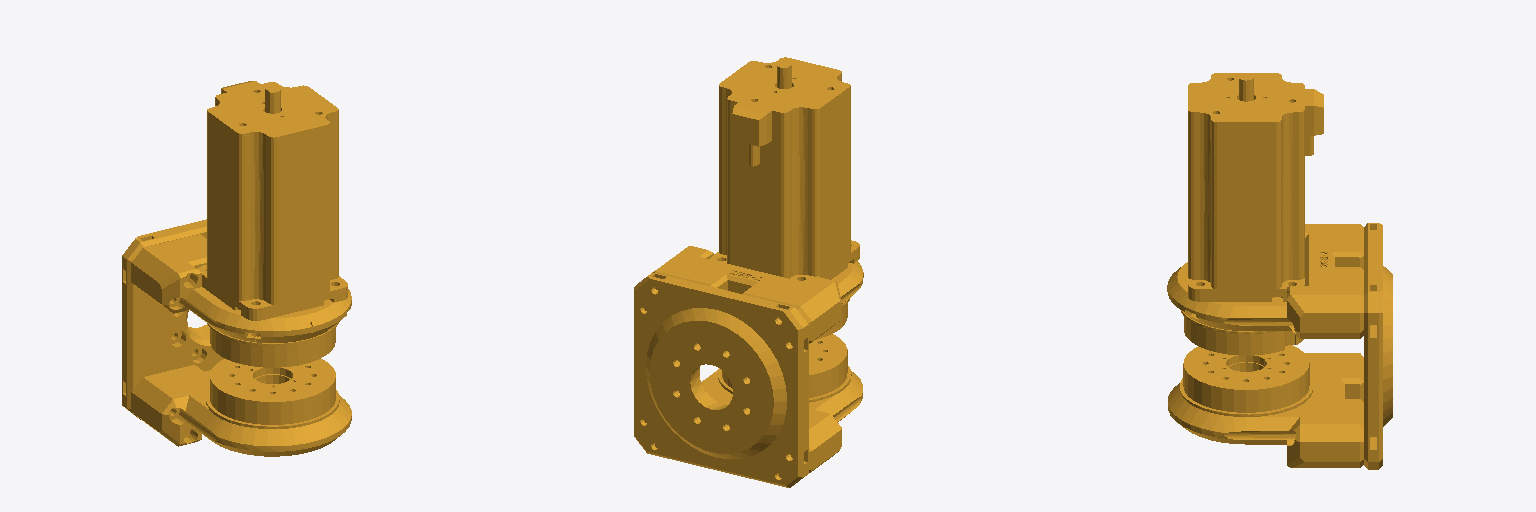
The picture shows the model from 3 angles: view 1: azimuth 30°, elevation 25°; view 2: azimuth 150°, elevation 25°; view 3: azimuth 270°, elevation 25°; orthographic projection.
Parts seen in each view (by area): view 1: Shoulder_Shoulder.001; view 2: Shoulder_Shoulder.001; view 3: Shoulder_Shoulder.001.
Boxes of the visible parts, <box> form: Shoulder_Shoulder.001: <box>122,81,351,456</box>; Shoulder_Shoulder.001: <box>634,57,863,487</box>; Shoulder_Shoulder.001: <box>1167,73,1392,469</box>.
Bounding box in the file's own units: 10.07 × 20.31 × 11.59.
1 materials, 1 textured.